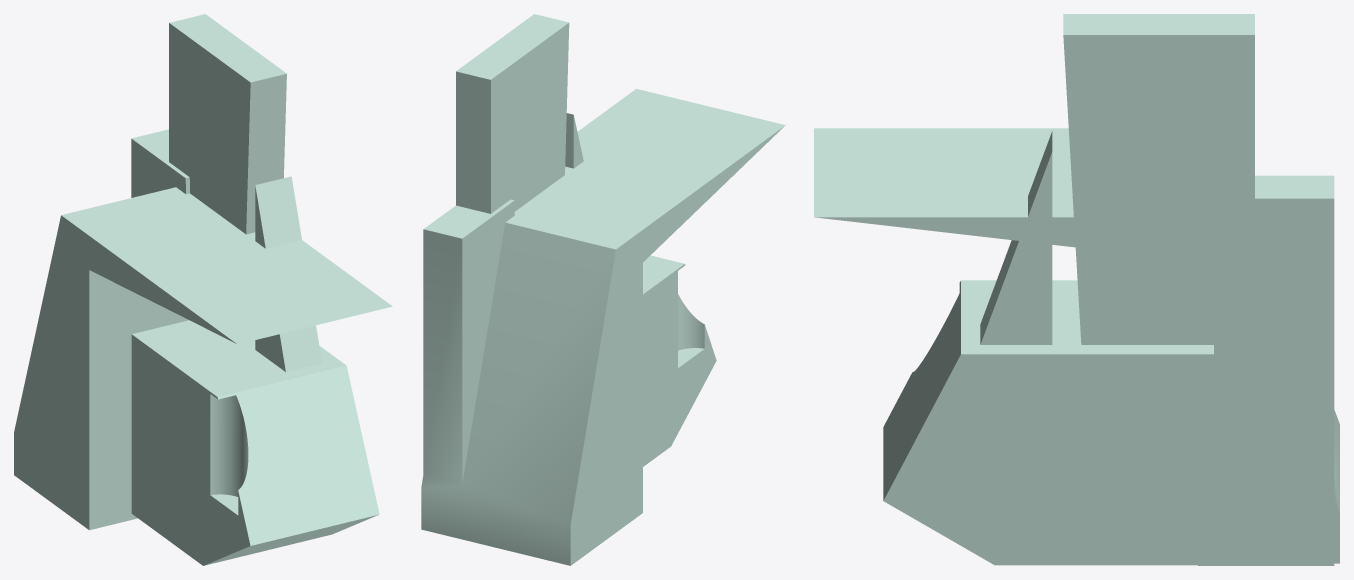
3 renders of one model, left to right at view 1: azimuth 30°, elevation 25°; view 2: azimuth 150°, elevation 25°; view 3: azimuth 270°, elevation 25°, orthographic. The views are drawn at different scales.
Parts seen in each view (by area): view 1: Renderer Node; view 2: Renderer Node; view 3: Renderer Node.
Boxes of the visible parts, x1=… form: Renderer Node: x1=14, y1=14, x2=392, y2=565; Renderer Node: x1=421, y1=14, x2=785, y2=565; Renderer Node: x1=814, y1=14, x2=1339, y2=565.
Bounding box in the file's own units: 0.6641 × 1.67 × 1.5.
